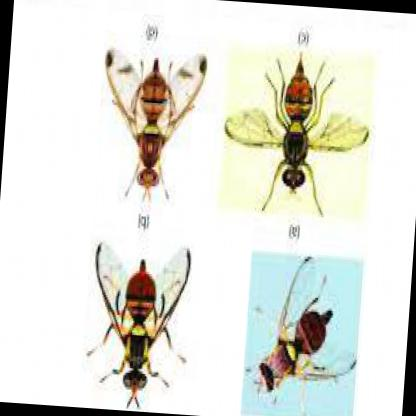fruit fly: (227, 59, 370, 189), (105, 47, 204, 197), (95, 242, 190, 391), (254, 260, 356, 398)
